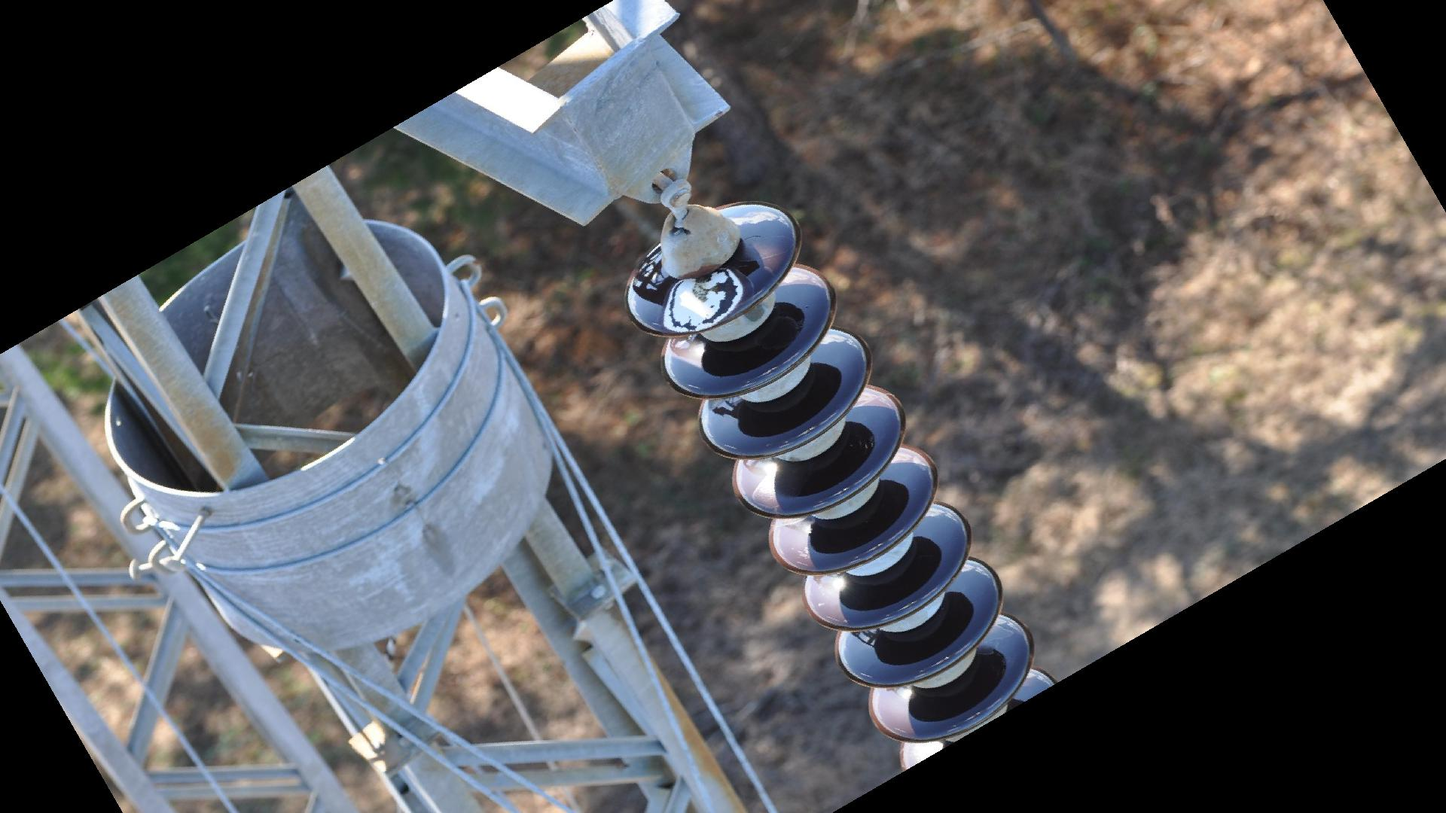insulator: (618, 193, 1065, 776)
insulator_flashover: (658, 263, 748, 338)
